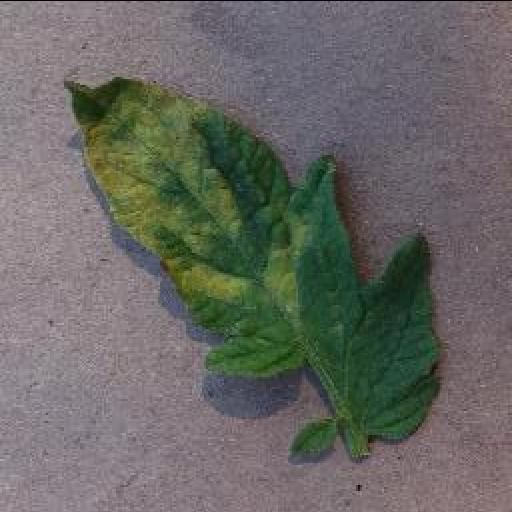disease_tomato: (60, 74, 440, 440)
